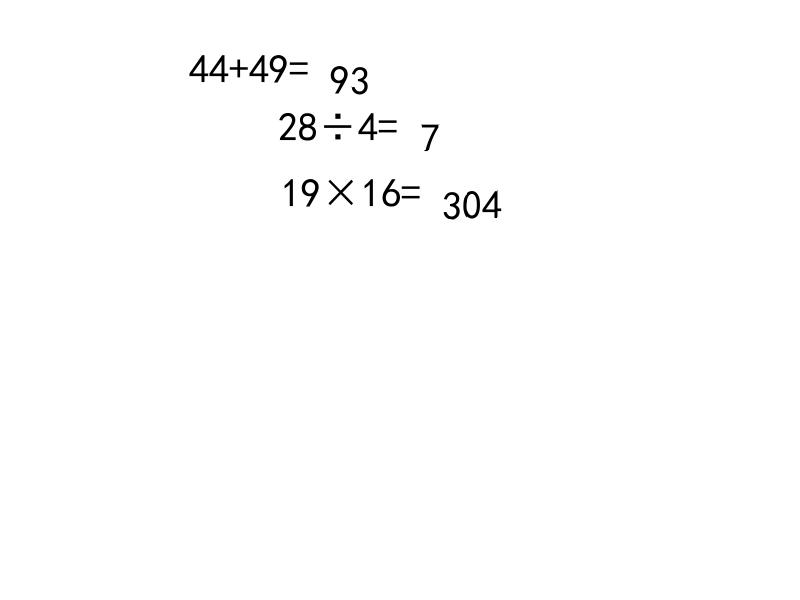+: (229, 48, 249, 76)
0: (451, 172, 471, 200)
1: (281, 172, 301, 200), (361, 172, 381, 200)
2: (278, 106, 298, 135)
3: (339, 48, 359, 76), (431, 172, 451, 200)
4: (358, 106, 378, 135), (189, 48, 209, 76), (209, 48, 229, 76), (249, 48, 269, 76), (471, 172, 491, 200)
6: (381, 172, 401, 200)
7: (408, 106, 428, 135)
8: (298, 106, 318, 135)
9: (269, 48, 289, 76), (319, 48, 339, 76), (301, 172, 321, 200)
=: (378, 106, 398, 135), (289, 48, 309, 76), (401, 172, 421, 200)
×: (321, 172, 361, 200)
÷: (318, 106, 358, 135)
